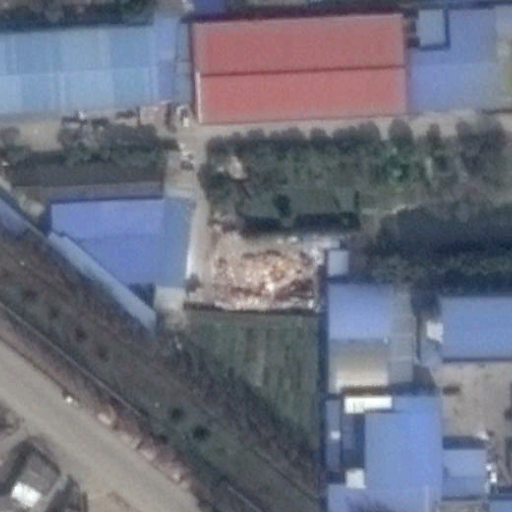msw: (213, 251, 325, 311)
